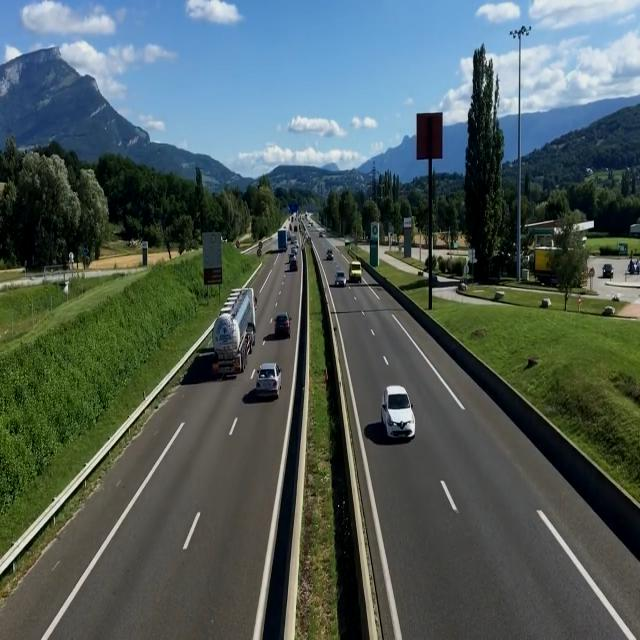Car: (381, 385, 417, 441), (255, 364, 282, 399), (274, 310, 293, 337), (333, 271, 347, 288), (326, 248, 335, 261)
Truck: (210, 287, 255, 377), (348, 259, 362, 284), (277, 229, 288, 256)
